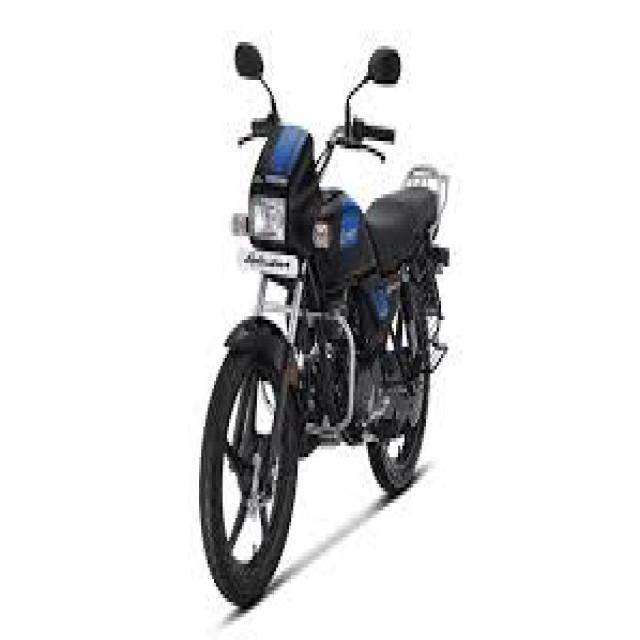Bike: (198, 41, 451, 612)
